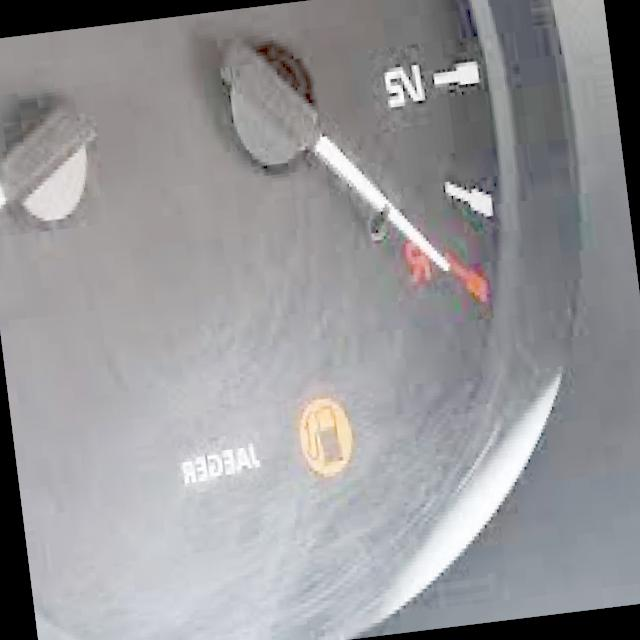kontrolka: (288, 388, 357, 483)
